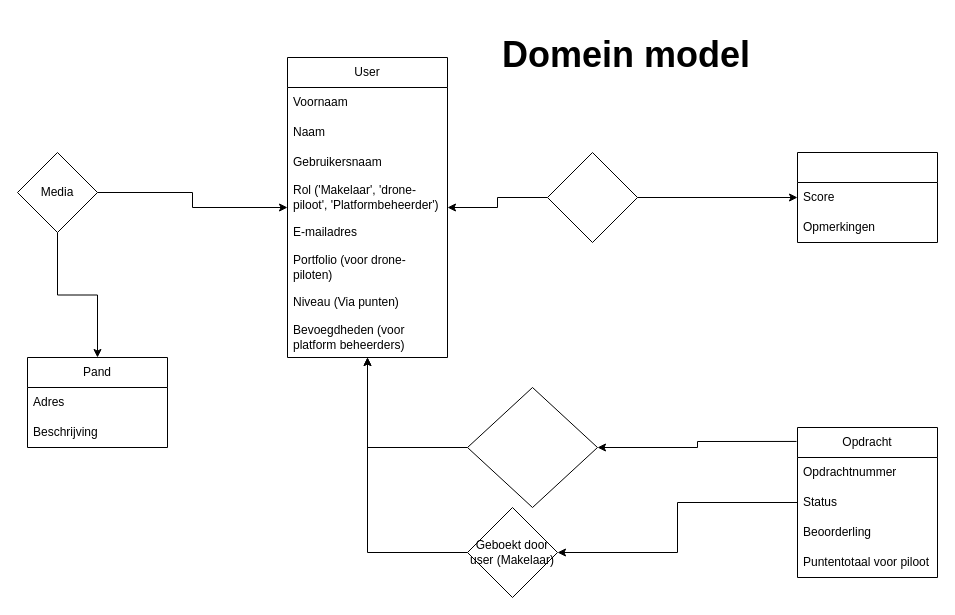
Image size: 955x615. Some labels were removed from this diagram. The box of each missing label's shape, as (x1, y1, x2, y2) in pixels:
Beoordering: (796, 152, 938, 242)
Gegeven door: (546, 152, 638, 242)
Uitgevoerd door user (drone piloot): (466, 386, 598, 508)
